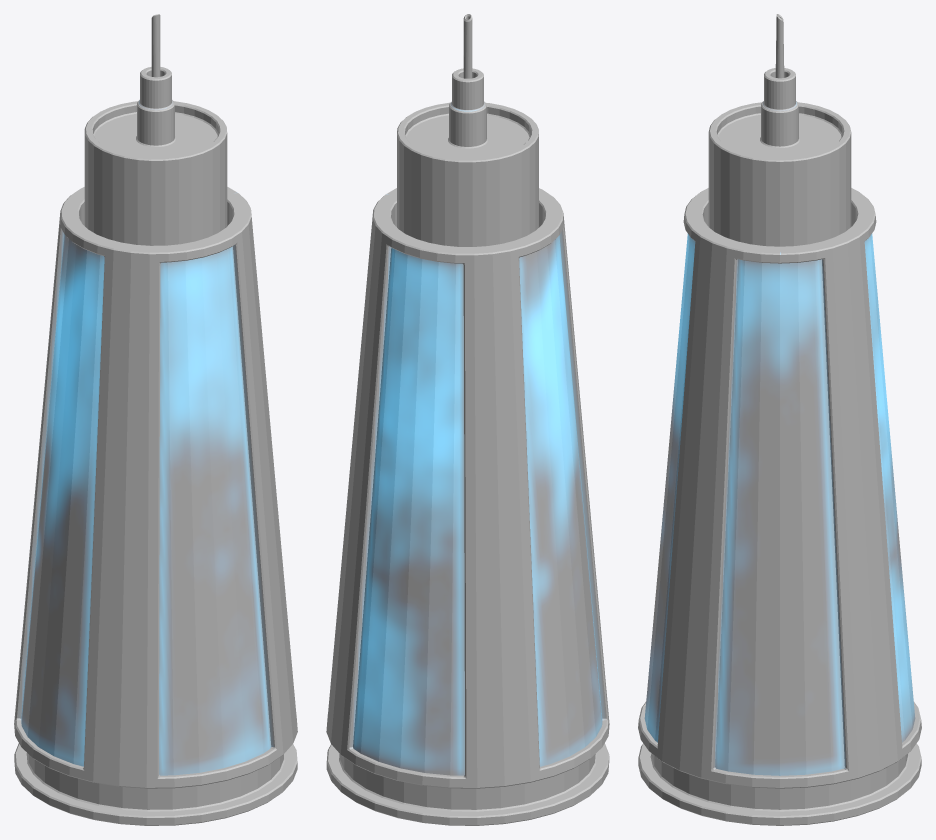
Rendered from SM_MedComponents-5.fbx.
The picture shows the model from 3 angles, left to right: view 1: azimuth 30°, elevation 25°; view 2: azimuth 150°, elevation 25°; view 3: azimuth 270°, elevation 25°; orthographic projection.
Parts seen in each view (by area): view 1: SM_MedComponents-5_LOD0; view 2: SM_MedComponents-5_LOD0; view 3: SM_MedComponents-5_LOD0.
Boxes of the visible parts, x1,y1,x2,y2 form: SM_MedComponents-5_LOD0: (14, 14, 297, 825); SM_MedComponents-5_LOD0: (326, 14, 609, 825); SM_MedComponents-5_LOD0: (638, 14, 921, 825).
Size of the model in its own units: 14.52 by 42.45 by 14.52.
